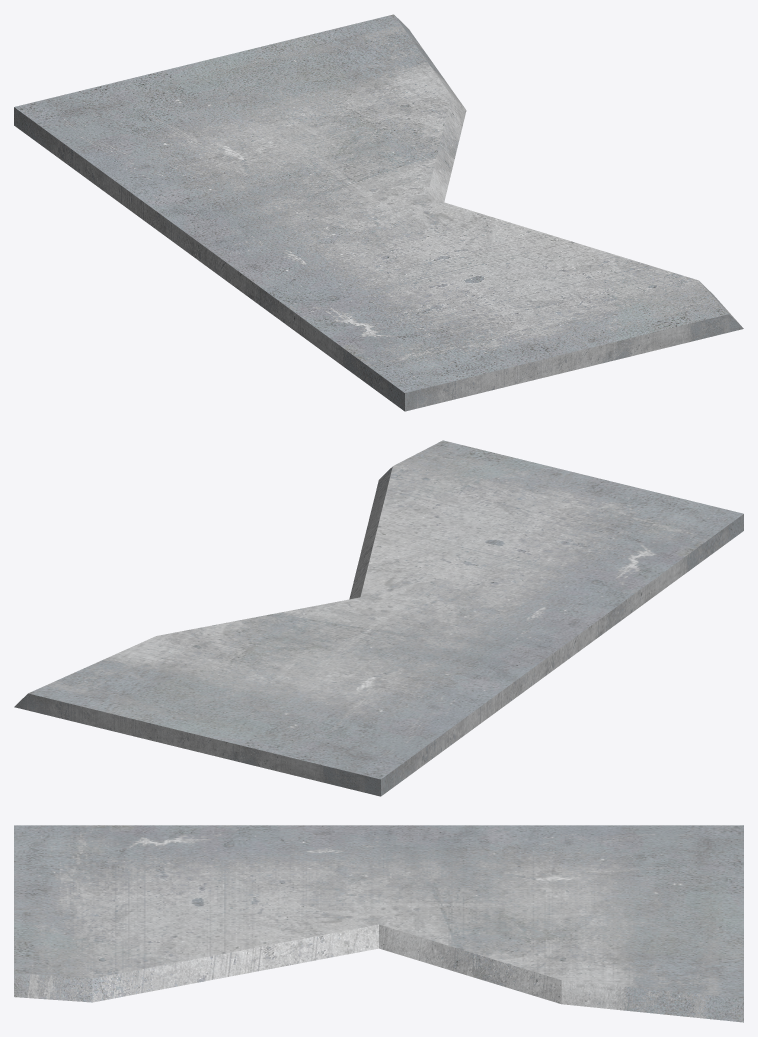
The model's file is Ceiling Tile_Broken_1.FBX.
3 views of the same model, one above another, from view 1: azimuth 30°, elevation 25°; view 2: azimuth 150°, elevation 25°; view 3: azimuth 270°, elevation 25° (orthographic). The views are drawn at different scales.
Visible parts, largest first — view 1: Ceiling Tile_Broken_1; view 2: Ceiling Tile_Broken_1; view 3: Ceiling Tile_Broken_1.
Part boxes in pixels (<box>): Ceiling Tile_Broken_1: <box>14,14,743,411</box>; Ceiling Tile_Broken_1: <box>14,440,743,796</box>; Ceiling Tile_Broken_1: <box>14,825,743,1022</box>.
Bounding box in the file's own units: 0.4035 × 0.018 × 0.6918.
